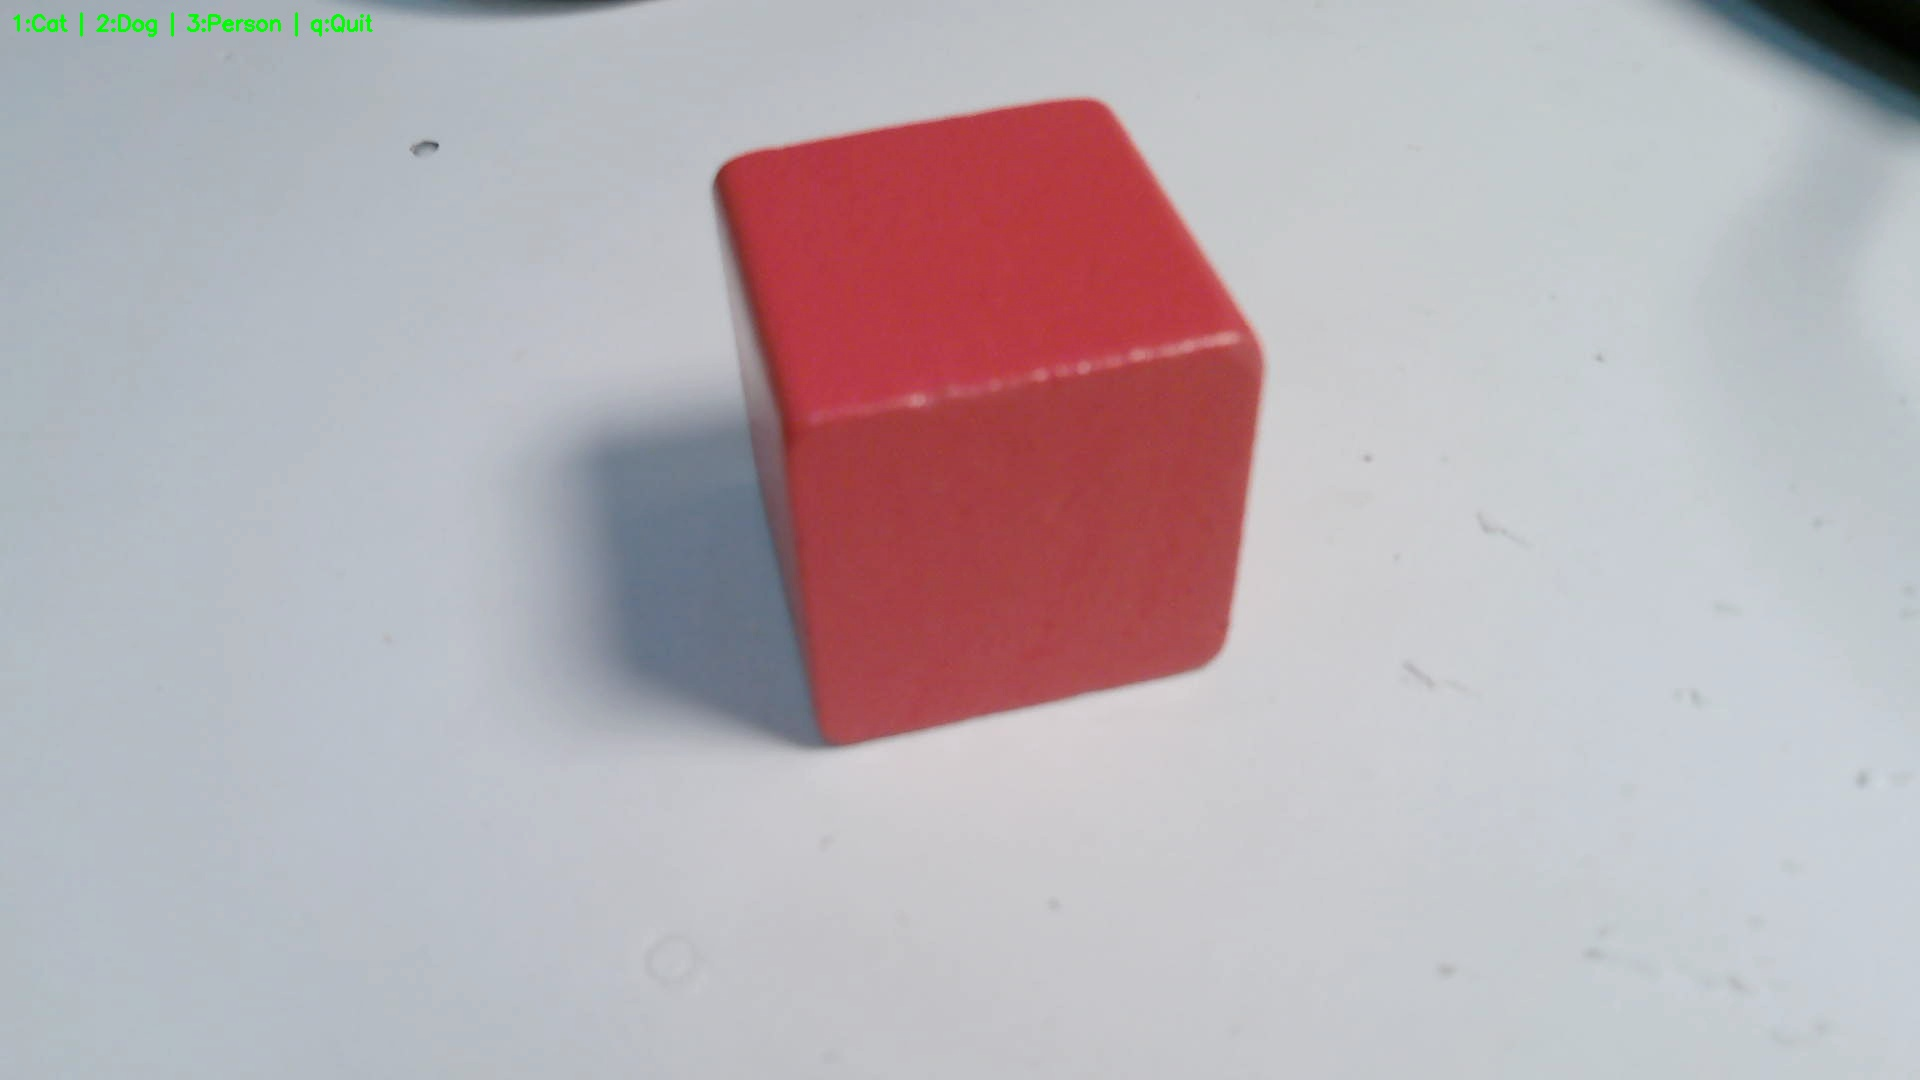red: (711, 100, 1269, 750)
